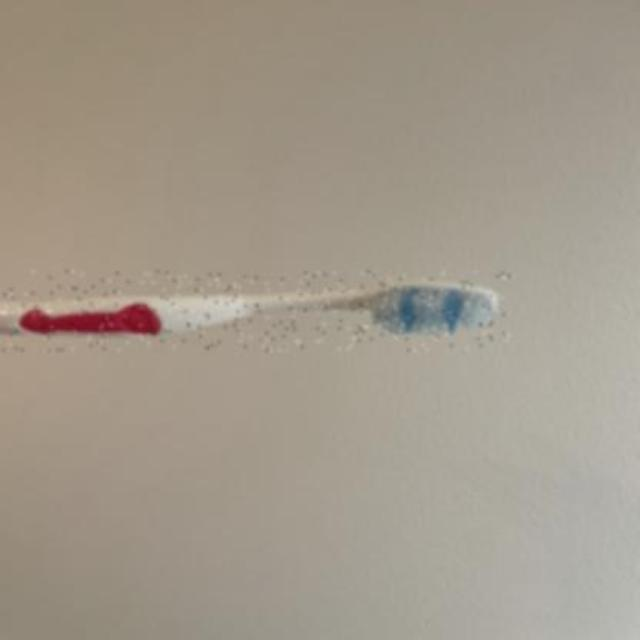toothbrush: (0, 271, 510, 351)
